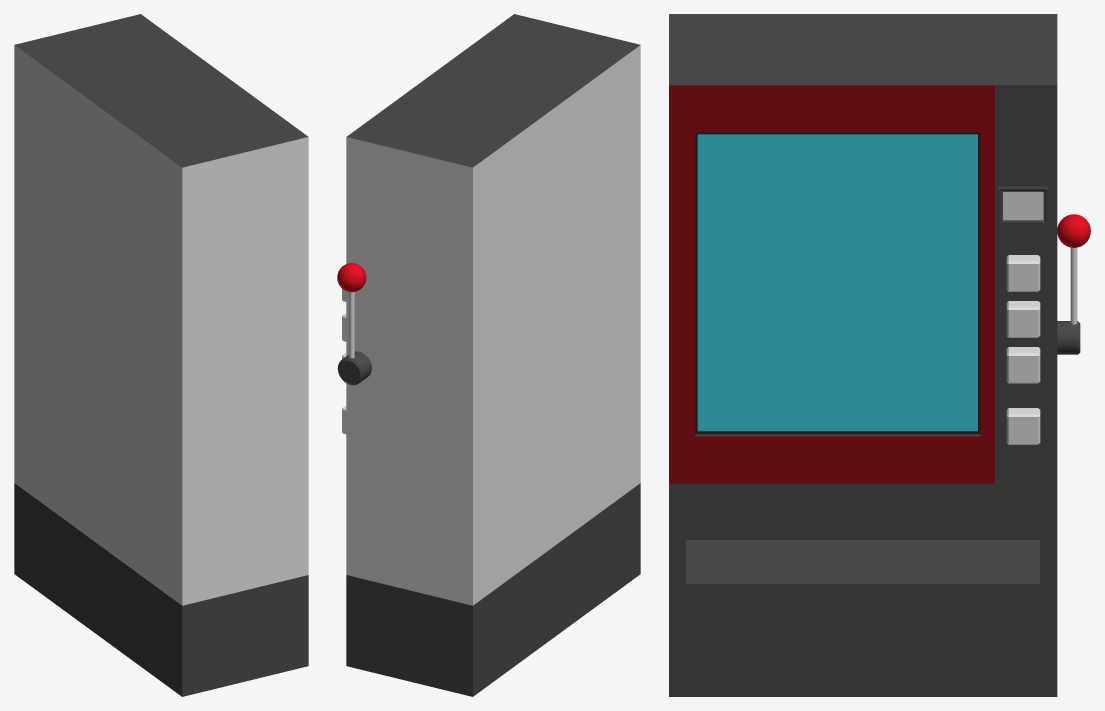
Rendered from Automat2.fbx.
The picture shows the model from 3 angles, left to right: view 1: azimuth 30°, elevation 25°; view 2: azimuth 150°, elevation 25°; view 3: azimuth 270°, elevation 25°; orthographic projection. The views are drawn at different scales.
Parts seen in each view (by area): view 1: automat; view 2: automat, Cylinder.001, Sphere; view 3: automat, glas, Display, Button3, Button1, Button2, ClearButton, Sphere, Cylinder.001.
Boxes of the visible parts, <box> form: automat: <box>14,14,308,696</box>; automat: <box>346,14,640,696</box>; Cylinder.001: <box>337,351,371,384</box>; Sphere: <box>337,263,366,292</box>; automat: <box>669,14,1057,696</box>; glas: <box>695,132,980,434</box>; Display: <box>998,186,1048,223</box>; Button3: <box>1006,347,1040,383</box>; Button1: <box>1006,255,1040,291</box>; Button2: <box>1006,301,1040,337</box>; ClearButton: <box>1006,408,1040,444</box>; Sphere: <box>1057,214,1090,247</box>; Cylinder.001: <box>1057,321,1080,354</box>.
Size of the model in its own units: 55 by 200 by 125.
